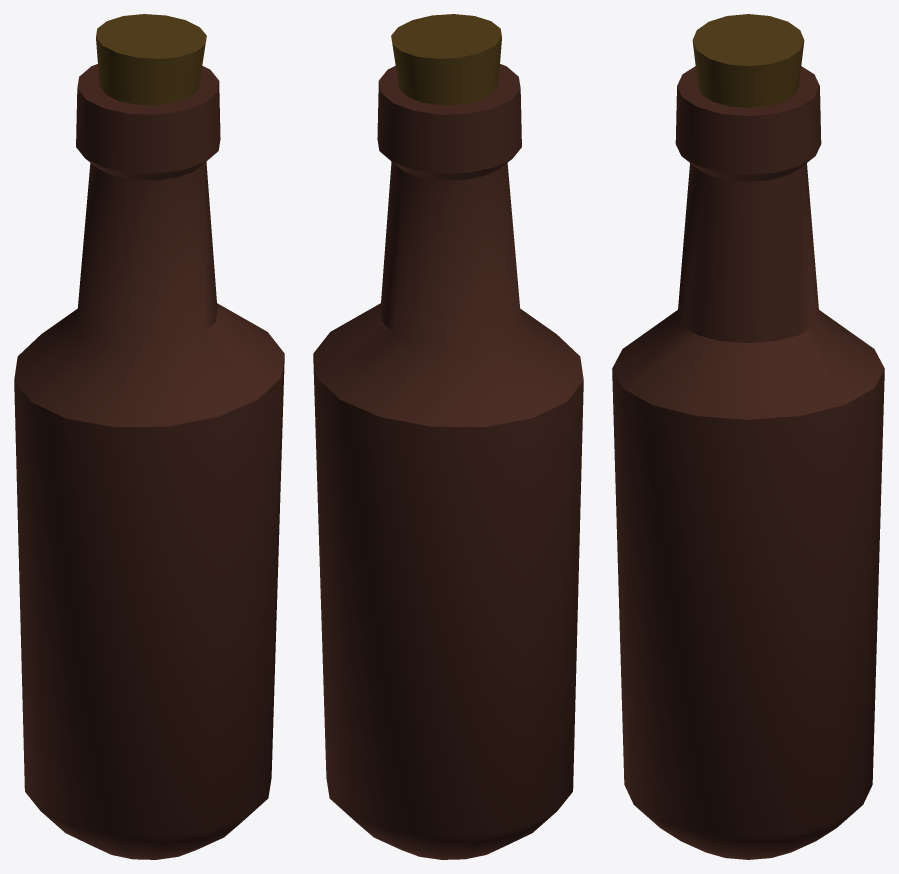
File: mk_bottle_1.glb
3 views of the same model, side by side, from view 1: azimuth 30°, elevation 25°; view 2: azimuth 150°, elevation 25°; view 3: azimuth 270°, elevation 25° (orthographic).
Parts seen in each view (by area): view 1: Bottle_1; view 2: Bottle_1; view 3: Bottle_1.
Boxes of the visible parts, bbox=[...] form: Bottle_1: bbox=[14, 14, 284, 859]; Bottle_1: bbox=[313, 14, 583, 859]; Bottle_1: bbox=[612, 14, 884, 859].
Size of the model in its own units: 0.1127 by 0.3647 by 0.1129.
